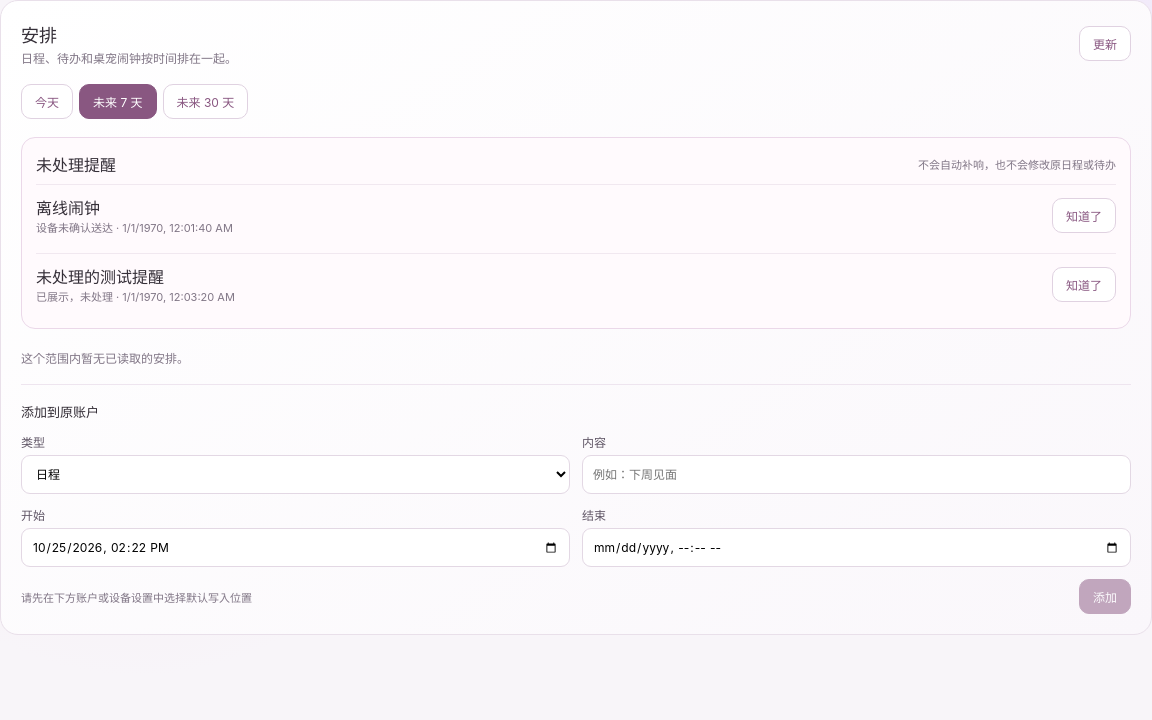
Test: reminder inbox › distinguishes missed from unhandled and dismisses only the selected history row
The image size is (1152, 720).
Expected: the text "离线闹钟" is shown, [36,198,100,218]
Expected: the text "设备未确认送达 · 1/1/1970, 12:01:40 AM" is shown, [36,219,233,235]
Click the button "知道了" in the row of "1/1/1970, 12:01:40 AM": (1084, 215) [1052,198,1116,232]
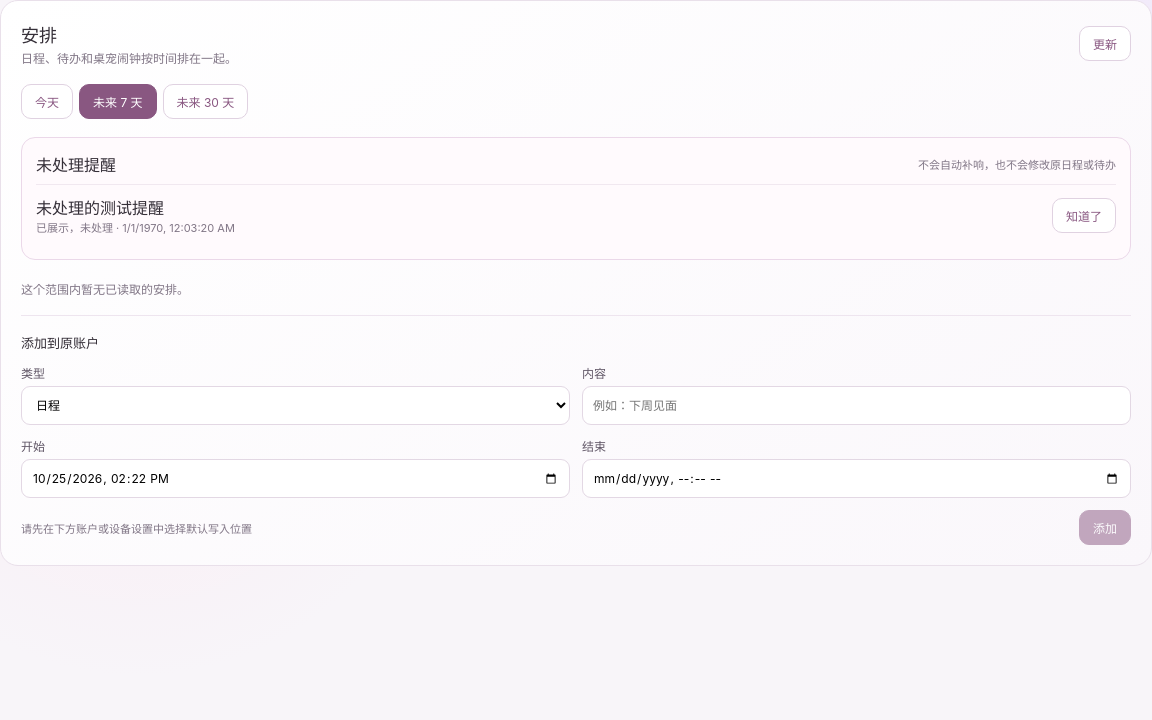
Expected: the text "未处理的测试提醒" is shown, [36,198,164,218]
Expected: the text "离线闹钟" is gone
